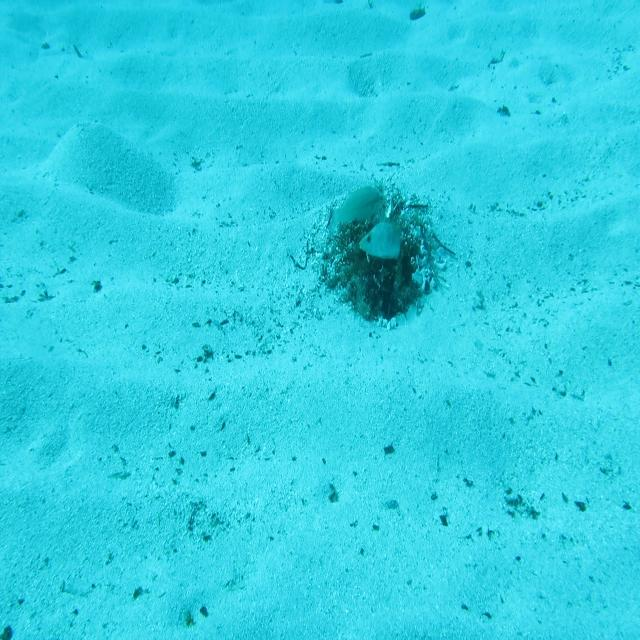DAN_CIRC: (358, 214, 404, 264)
female: (325, 183, 385, 238)
nest: (320, 176, 454, 319)
